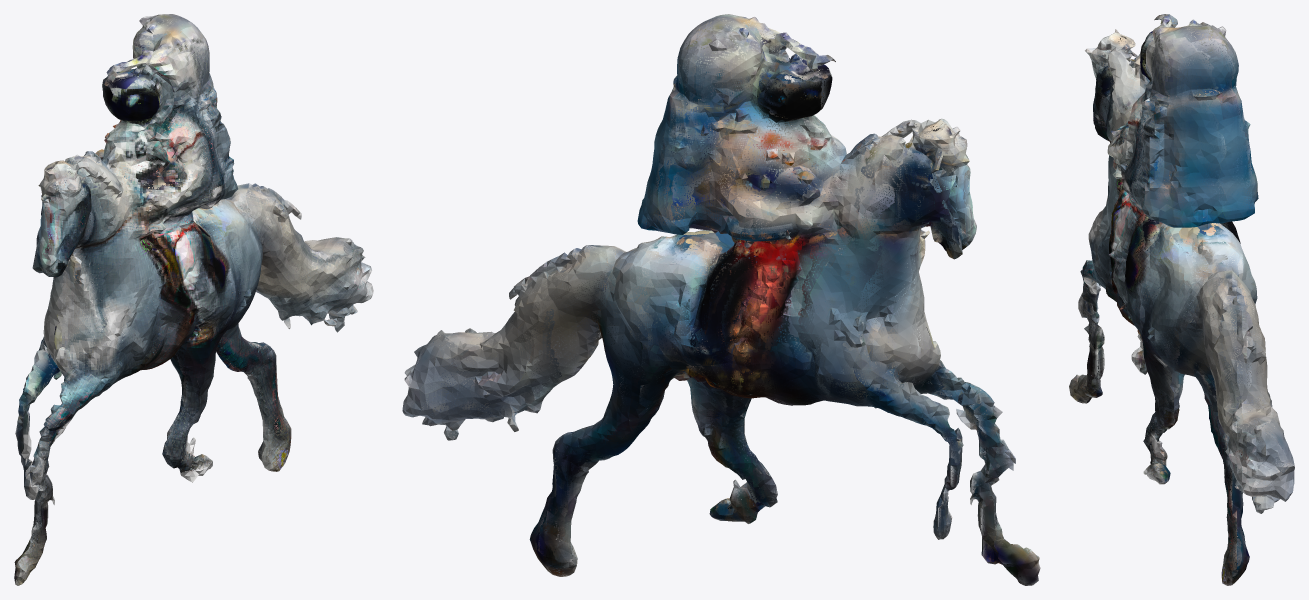
Rendered from astronaut_004.glb.
3 renders of one model, left to right at view 1: azimuth 30°, elevation 25°; view 2: azimuth 150°, elevation 25°; view 3: azimuth 270°, elevation 25°, orthographic. The views are drawn at different scales.
Size of the model in its own units: 1.35 by 1.42 by 0.5834.
Materials: 1 (1 with a texture image).
